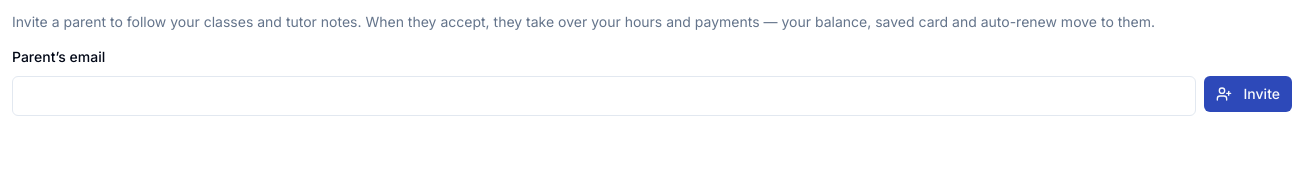
Test: InviteParentCard › validates the email before sending
Click the button "Invite".
click(1248, 94)  # box [1204, 76, 1292, 112]
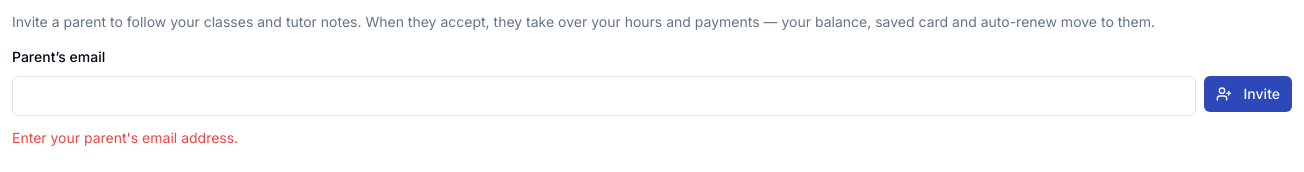
Check: the message reads "Enter your parent's email address.", box [12, 129, 238, 146]
